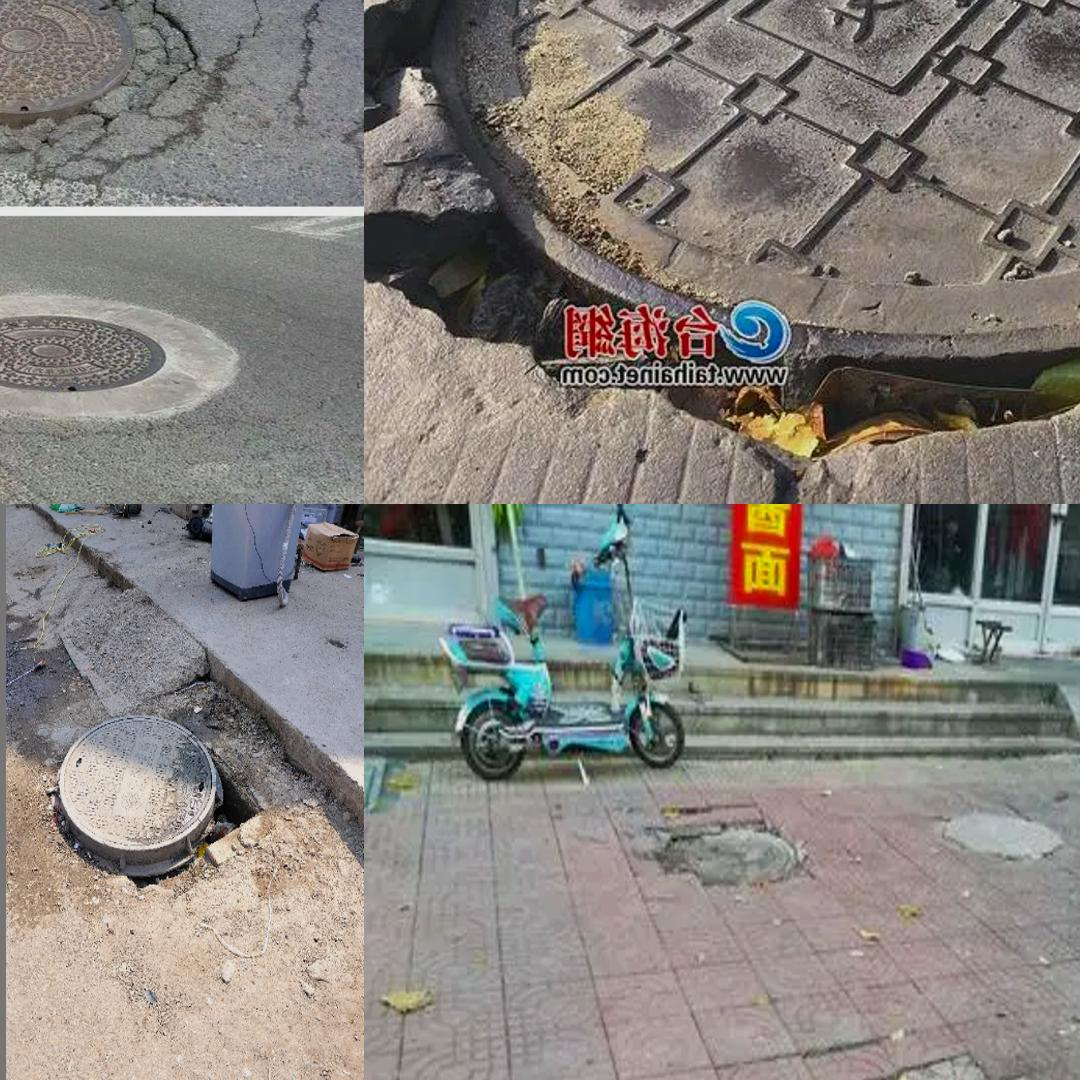circle: (385, 0, 1080, 468), (0, 0, 219, 167), (49, 704, 247, 883), (718, 1052, 1080, 1080)
